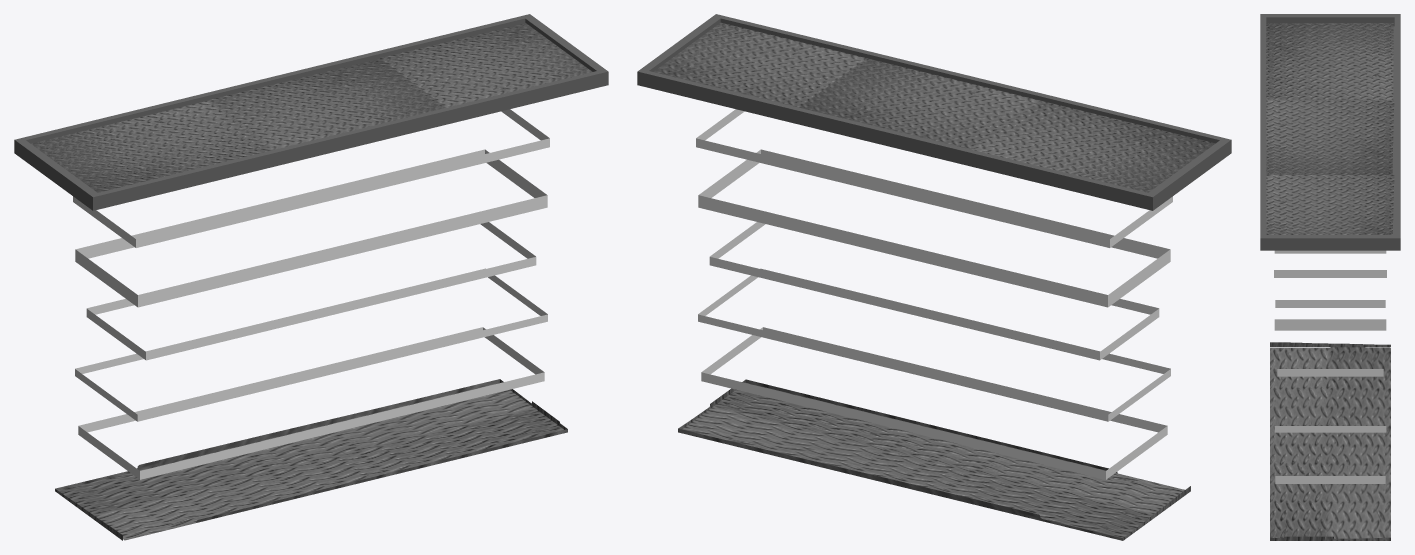
Rendered from cyberpunk_Platform.fbx.
The picture shows the model from 3 angles, left to right: view 1: azimuth 30°, elevation 25°; view 2: azimuth 150°, elevation 25°; view 3: azimuth 270°, elevation 25°; orthographic projection. The views are drawn at different scales.
Parts seen in each view (by area): view 1: Cube, Cube.001; view 2: Cube, Cube.001; view 3: Cube.001, Cube.
Boxes of the visible parts, x1,y1,x2,y2 form: Cube: (55, 109, 567, 540); Cube.001: (14, 14, 608, 210); Cube: (678, 109, 1190, 540); Cube.001: (637, 14, 1231, 210); Cube.001: (1260, 14, 1400, 250); Cube: (1270, 250, 1390, 540).
Bounding box in the file's own units: 877 × 579 × 232.
